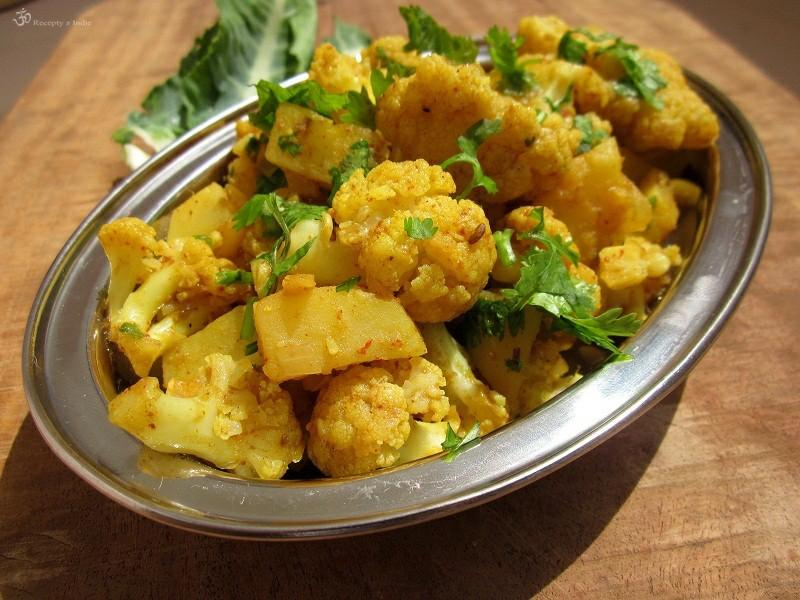AlooGobi: (102, 5, 724, 481)
